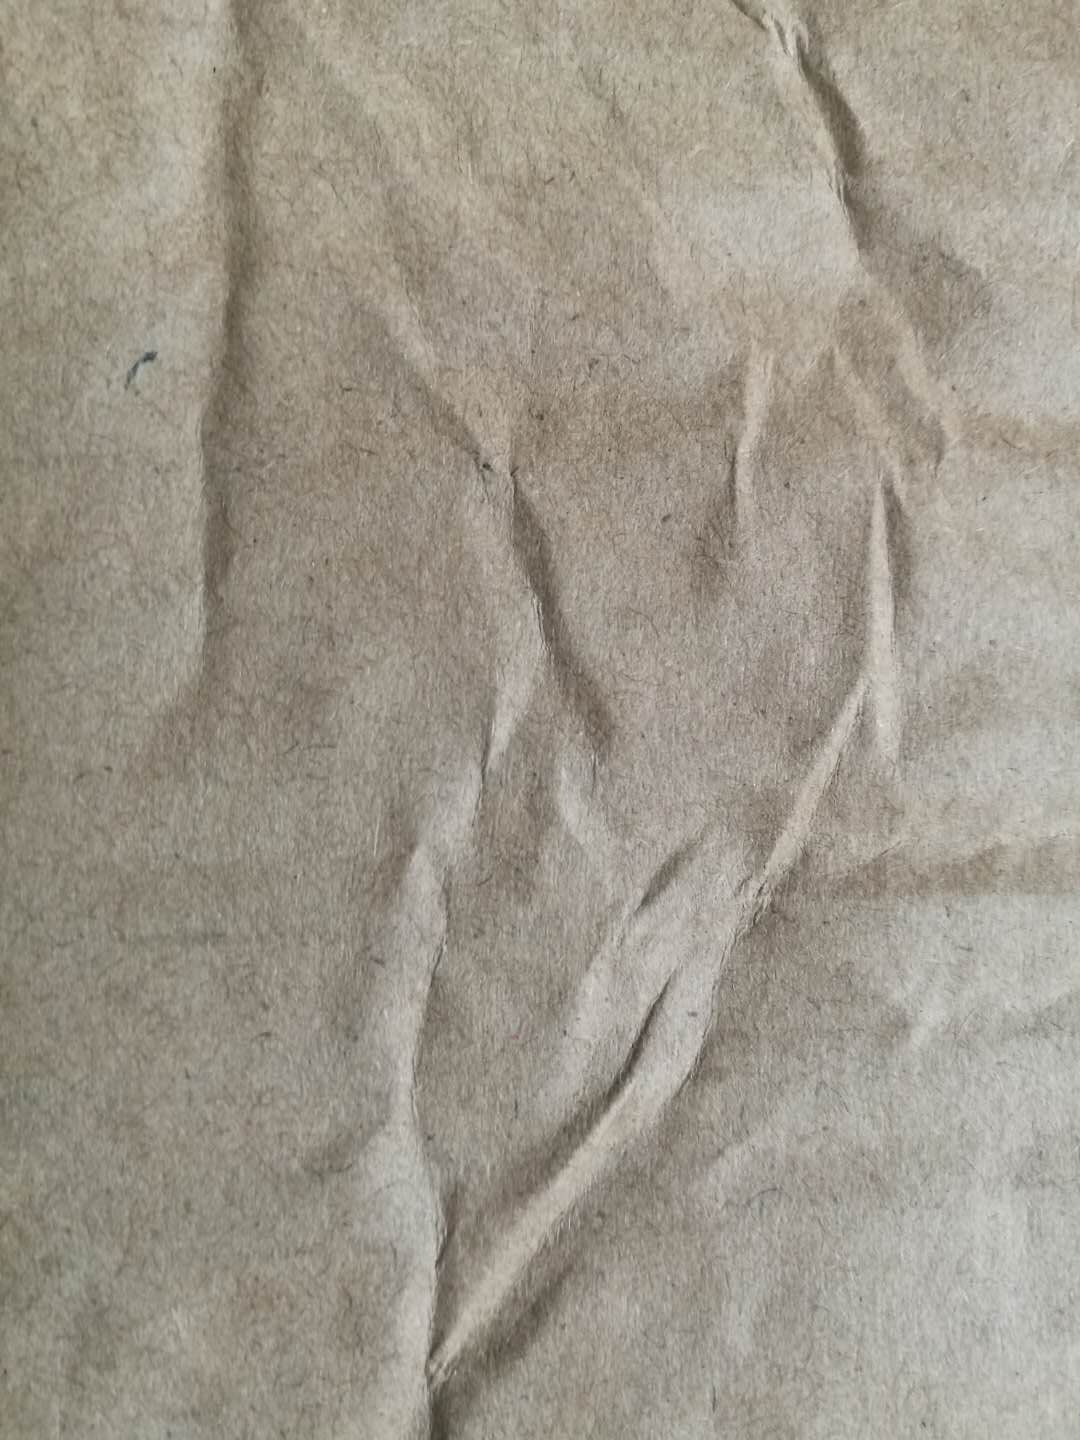defect: (328, 1, 1080, 1440), (81, 1, 388, 828)
